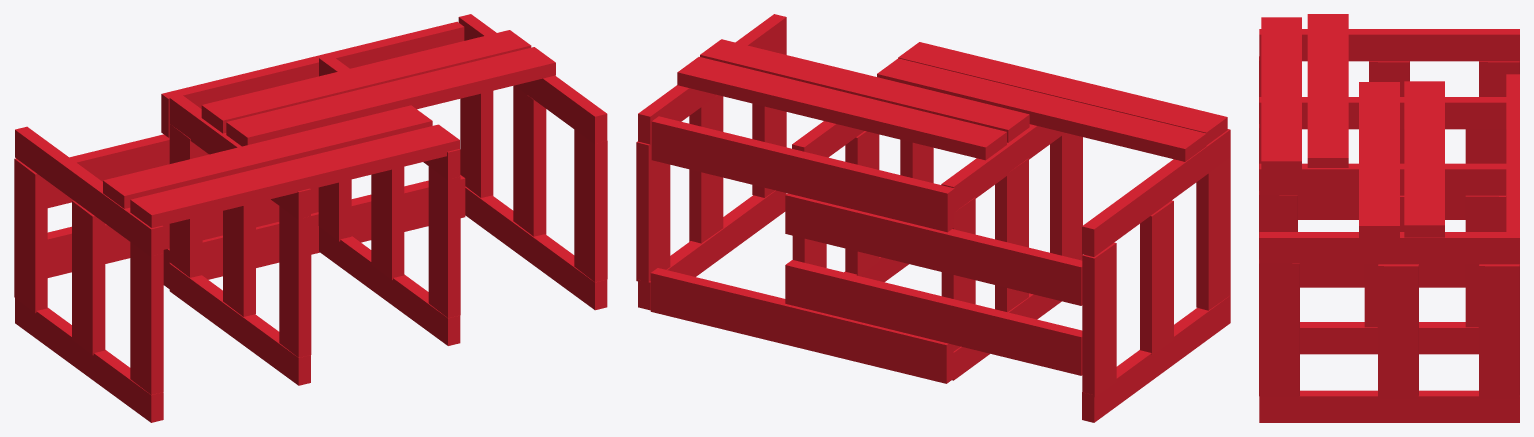
Rendered from tinker.obj.
3 renders of one model, left to right at view 1: azimuth 30°, elevation 25°; view 2: azimuth 150°, elevation 25°; view 3: azimuth 270°, elevation 25°, orthographic. The views are drawn at different scales.
Parts seen in each view (by area): view 1: obj_0; view 2: obj_0; view 3: obj_0.
Boxes of the visible parts, x1,y1,x2,y2 form: obj_0: (14, 14, 607, 422); obj_0: (636, 14, 1230, 422); obj_0: (1259, 14, 1519, 422).
Bounding box in the file's own units: 447 × 196 × 230.
